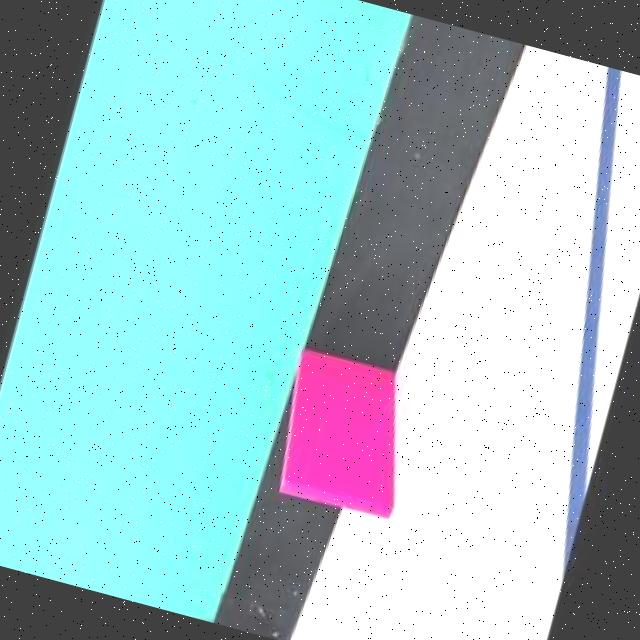xparking: (283, 363, 426, 514)
